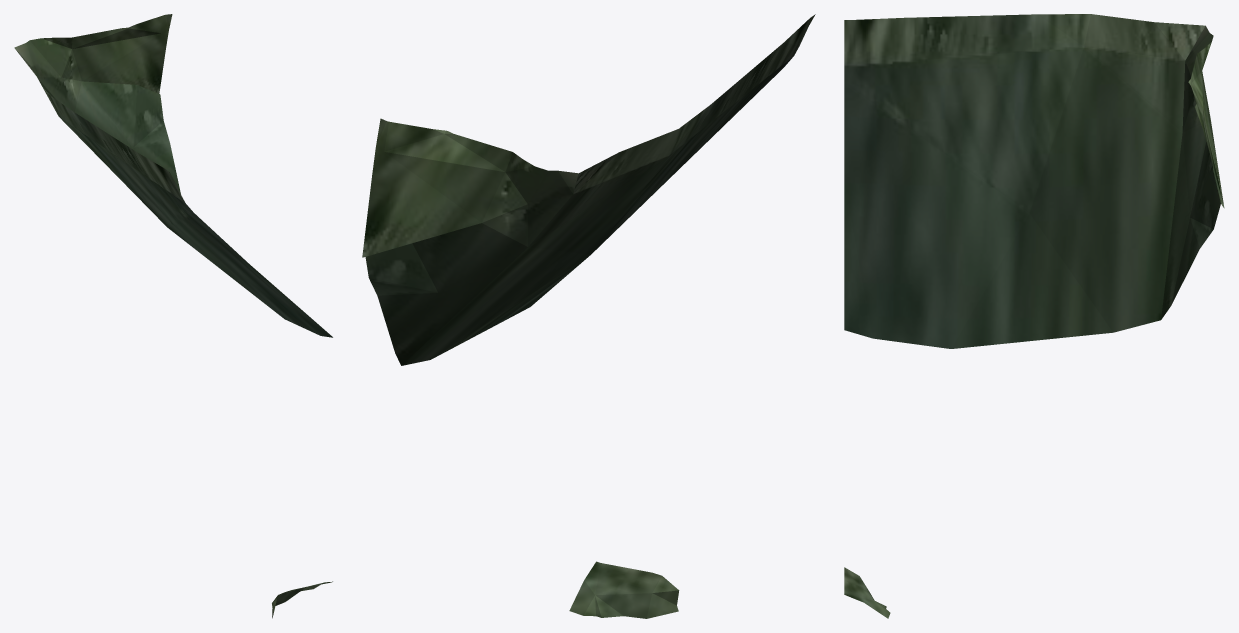
3 renders of one model, left to right at view 1: azimuth 30°, elevation 25°; view 2: azimuth 150°, elevation 25°; view 3: azimuth 270°, elevation 25°, orthographic. The views are drawn at different scales.
Bounding box in the file's own units: 1.15 × 2.95 × 1.98.
Materials: 1 (1 with a texture image).
